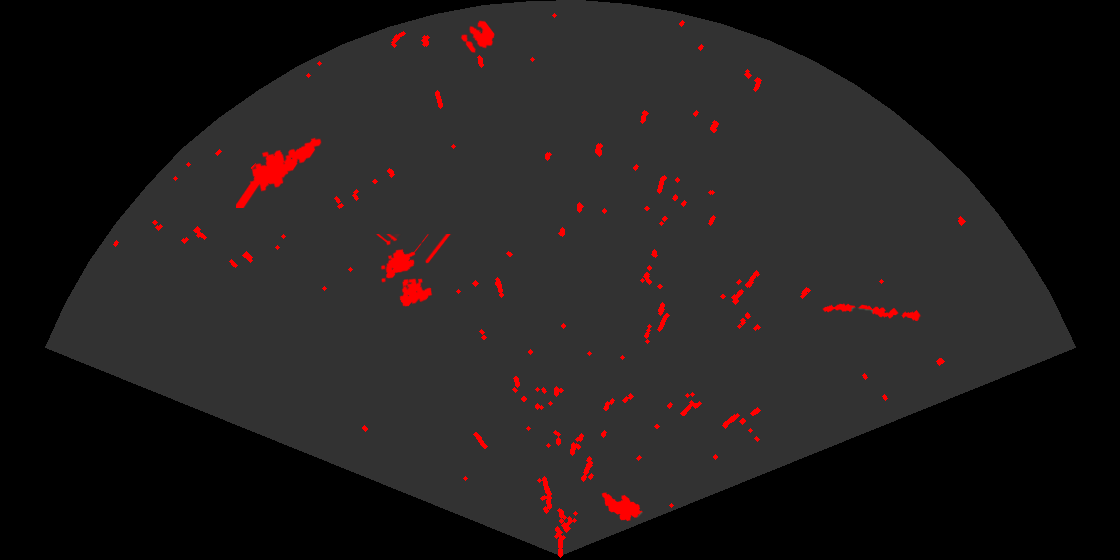AUV: (600, 491, 644, 523)
ball: (459, 19, 496, 55)
cage: (375, 234, 452, 308)
chain: (821, 302, 923, 323)
frogman: (236, 136, 323, 208)
